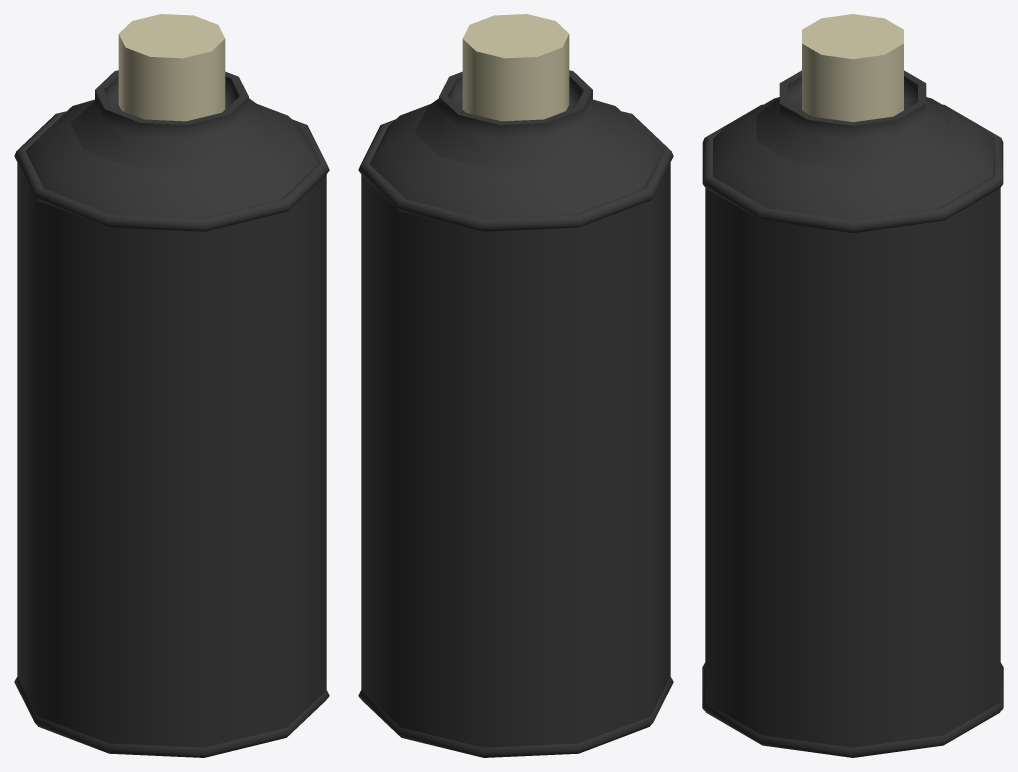
The model's file is PaintCan.FBX.
3 views of the same model, side by side, from view 1: azimuth 30°, elevation 25°; view 2: azimuth 150°, elevation 25°; view 3: azimuth 270°, elevation 25° (orthographic).
Visible parts, largest first — view 1: PaintCan; view 2: PaintCan; view 3: PaintCan.
Part boxes in pixels (<box>): PaintCan: <box>14,14,329,757</box>; PaintCan: <box>358,14,673,757</box>; PaintCan: <box>702,14,1003,757</box>.
Bounding box in the file's own units: 6.3 × 5.99 × 14.41.
